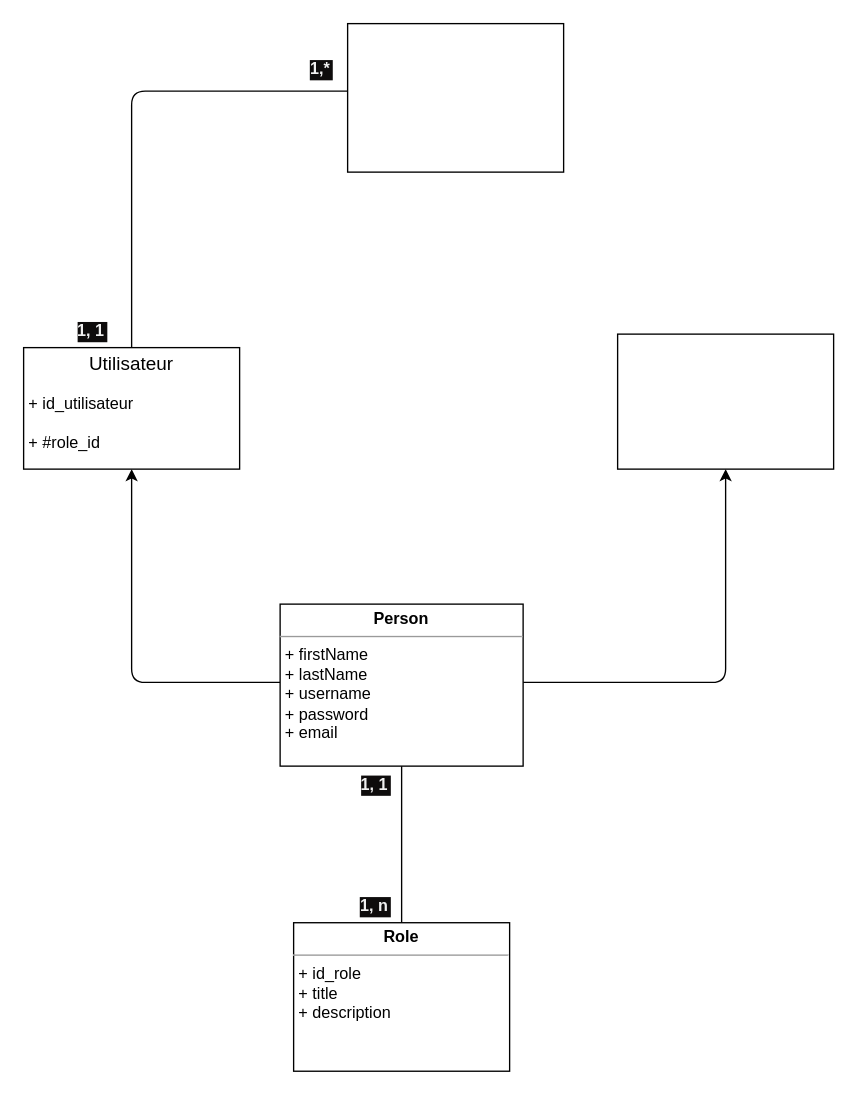
This 857x1095 diagram has some shape labels left out. Each missing label, with the centre of its shape:
"admin + id_admin + phone + CIN + #role_id" goes at (x=725, y=401).
"Article + id_article + title + contenu +date_de_creation #id_utilisatuer" goes at (x=455, y=97).
